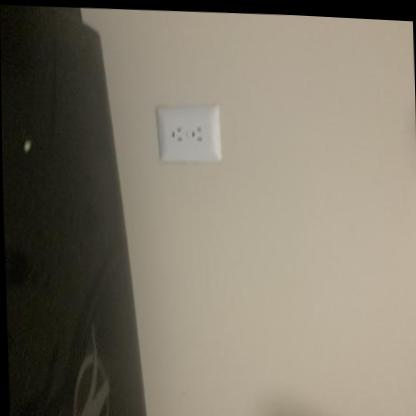OUTLET: (157, 104, 221, 163)
